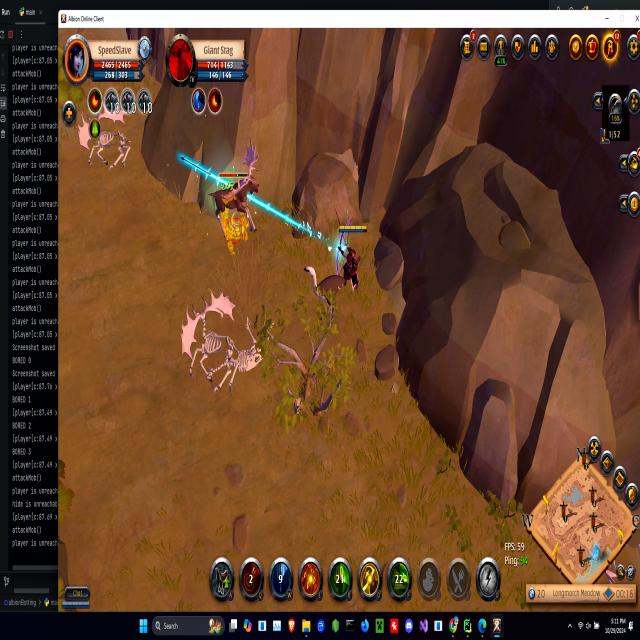ore: (209, 172, 258, 243), (305, 256, 343, 321)
red: (336, 220, 366, 293)
